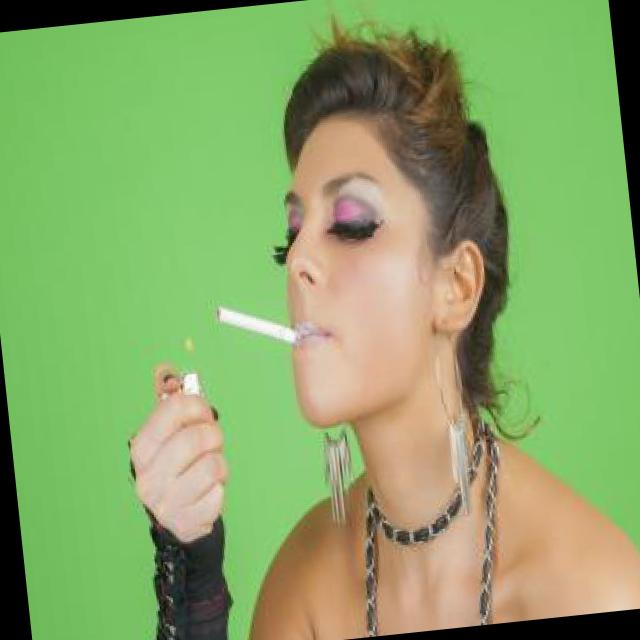Fire: (174, 325, 205, 375)
